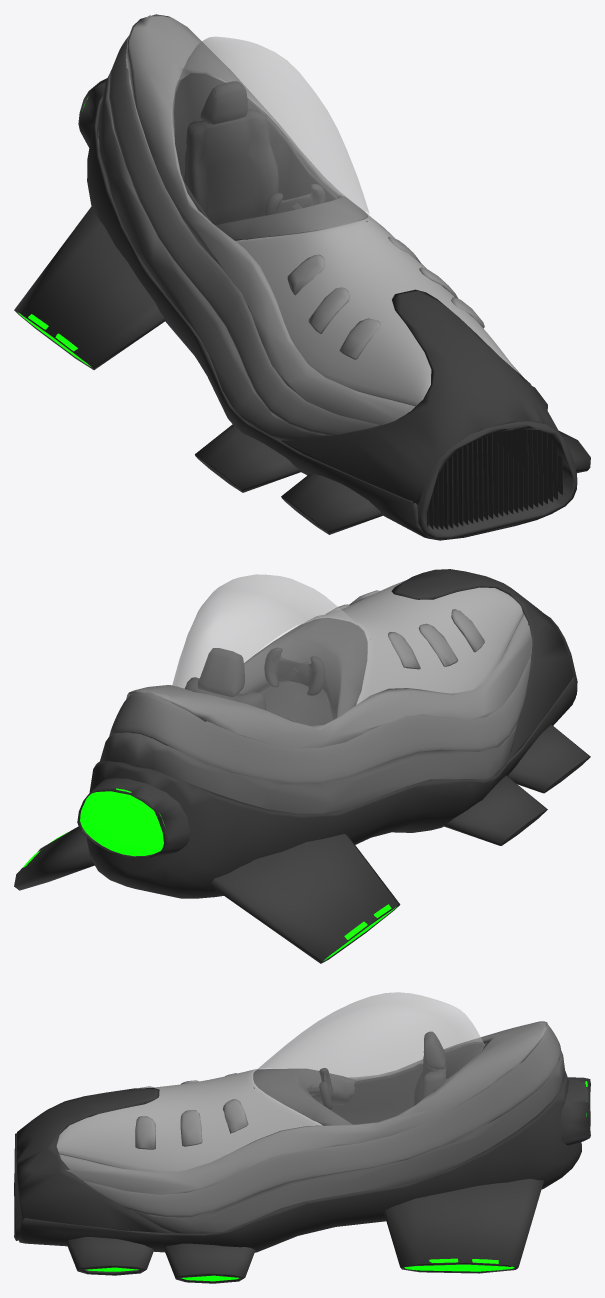
File: AM95_game.glb
3 renders of one model, top to bottom at view 1: azimuth 30°, elevation 25°; view 2: azimuth 150°, elevation 25°; view 3: azimuth 270°, elevation 25°, orthographic. The views are drawn at different scales.
Parts seen in each view (by area): view 1: body_paint_base_game, body_glass_game, body_paint_metal_game, body_paint_fade_1_game, body_paint_fade_top_game, body_paint_fade_3_game, body_paint_fade_2_game; view 2: body_paint_base_game, body_paint_metal_game, body_glass_game, body_paint_fade_3_game, body_paint_fade_2_game, body_paint_fade_1_game, body_paint_fade_top_game, body_light_glow_game; view 3: body_paint_base_game, body_glass_game, body_paint_metal_game, body_paint_fade_1_game, body_paint_fade_2_game, body_paint_fade_3_game, body_paint_fade_top_game, body_light_glow_game.
Boxes of the visible parts, x1=… form: body_paint_base_game: x1=87, y1=73, x2=576, y2=540; body_glass_game: x1=172, y1=36, x2=369, y2=239; body_paint_metal_game: x1=14, y1=78, x2=590, y2=539; body_paint_fade_1_game: x1=126, y1=14, x2=522, y2=425; body_paint_fade_top_game: x1=235, y1=215, x2=517, y2=406; body_paint_fade_3_game: x1=97, y1=71, x2=370, y2=440; body_paint_fade_2_game: x1=109, y1=15, x2=380, y2=435; body_paint_base_game: x1=86, y1=569, x2=576, y2=898; body_paint_metal_game: x1=14, y1=614, x2=590, y2=963; body_glass_game: x1=172, y1=574, x2=368, y2=725; body_paint_fade_3_game: x1=100, y1=617, x2=519, y2=813; body_paint_fade_2_game: x1=109, y1=655, x2=531, y2=783; body_paint_fade_1_game: x1=126, y1=590, x2=532, y2=748; body_paint_fade_top_game: x1=284, y1=580, x2=523, y2=705; body_light_glow_game: x1=22, y1=788, x2=396, y2=960; body_paint_base_game: x1=16, y1=1031, x2=581, y2=1252; body_glass_game: x1=252, y1=992, x2=484, y2=1125; body_paint_metal_game: x1=14, y1=1077, x2=590, y2=1283; body_paint_fade_1_game: x1=59, y1=1021, x2=547, y2=1194; body_paint_fade_2_game: x1=83, y1=1023, x2=560, y2=1217; body_paint_fade_3_game: x1=133, y1=1050, x2=565, y2=1233; body_paint_fade_top_game: x1=56, y1=1069, x2=322, y2=1172; body_light_glow_game: x1=85, y1=1081, x2=587, y2=1281.
Size of what is drawn, in the model's own units: 2 by 1.81 by 4.06.
